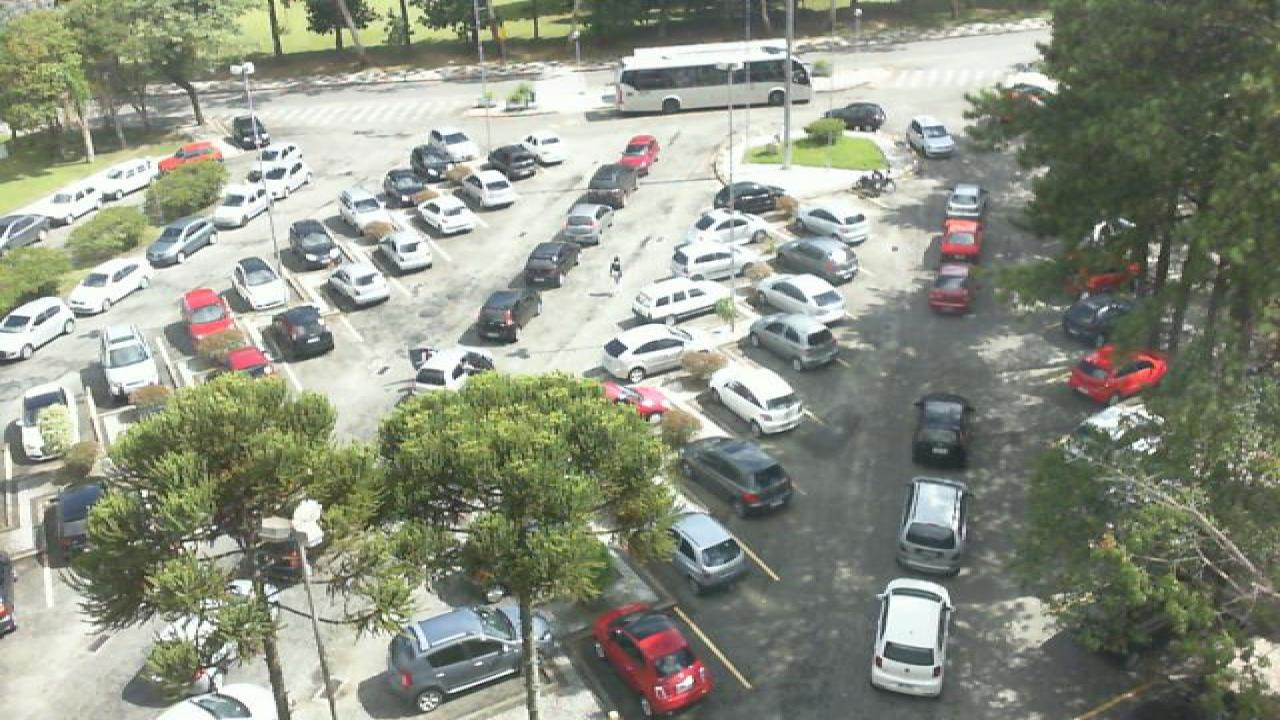Car: (384, 606, 532, 706), (594, 603, 714, 714), (868, 578, 958, 699), (680, 433, 796, 515), (898, 474, 972, 574), (704, 366, 808, 436), (666, 510, 746, 592), (1068, 346, 1170, 406), (40, 481, 112, 566), (602, 320, 696, 380), (64, 256, 152, 318), (0, 294, 78, 362), (748, 314, 842, 370), (628, 276, 732, 326), (910, 391, 972, 467), (756, 271, 852, 320), (406, 349, 496, 398), (18, 386, 76, 462), (674, 237, 758, 286), (782, 235, 862, 286), (1058, 290, 1134, 343), (472, 289, 542, 345), (98, 329, 164, 388), (144, 215, 218, 267), (266, 306, 334, 361), (176, 288, 242, 342), (592, 380, 670, 424), (128, 692, 250, 720), (798, 204, 870, 250), (228, 255, 286, 310), (0, 210, 70, 255), (32, 178, 106, 219), (696, 209, 774, 246), (288, 218, 340, 271), (712, 181, 790, 216), (416, 192, 478, 236), (214, 179, 274, 224), (926, 263, 976, 315), (376, 225, 432, 271), (332, 266, 390, 310), (520, 241, 578, 284), (904, 114, 958, 160), (486, 142, 548, 182), (584, 163, 640, 206), (458, 170, 516, 208), (820, 101, 888, 133), (224, 346, 278, 386), (338, 187, 390, 226), (254, 161, 310, 197), (938, 218, 982, 262), (410, 145, 462, 182), (382, 169, 432, 207), (560, 204, 604, 246), (428, 127, 482, 159), (226, 114, 272, 150), (158, 138, 224, 162), (944, 184, 986, 219), (252, 143, 304, 170), (620, 134, 660, 168)
